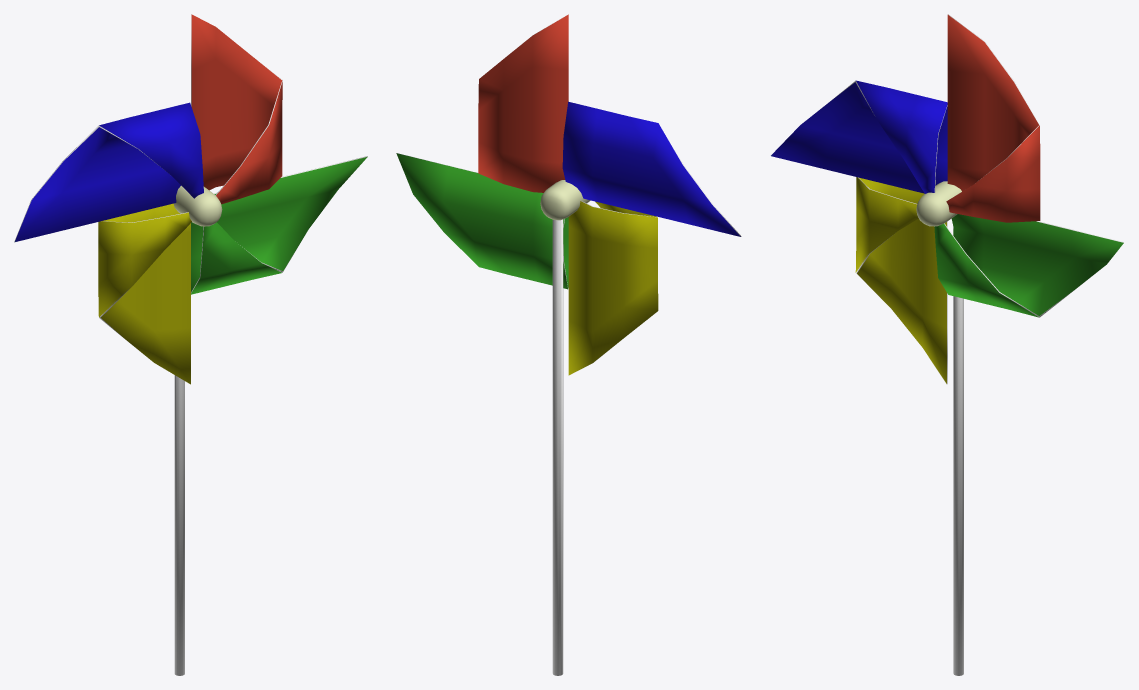
File: elvs_pinwheel1.glb
3 views of the same model, side by side, from view 1: azimuth 30°, elevation 25°; view 2: azimuth 150°, elevation 25°; view 3: azimuth 330°, elevation 25° (orthographic). The views are drawn at different scales.
Parts seen in each view (by area): view 1: pinwheel_smats; view 2: pinwheel_smats; view 3: pinwheel_smats.
Boxes of the visible parts, x1,y1,x2,y2 form: pinwheel_smats: (14,14,367,675); pinwheel_smats: (396,14,741,675); pinwheel_smats: (771,14,1123,675).
Size of the model in its own units: 3.84 by 6.94 by 0.7674.
1 material, 1 textured.
